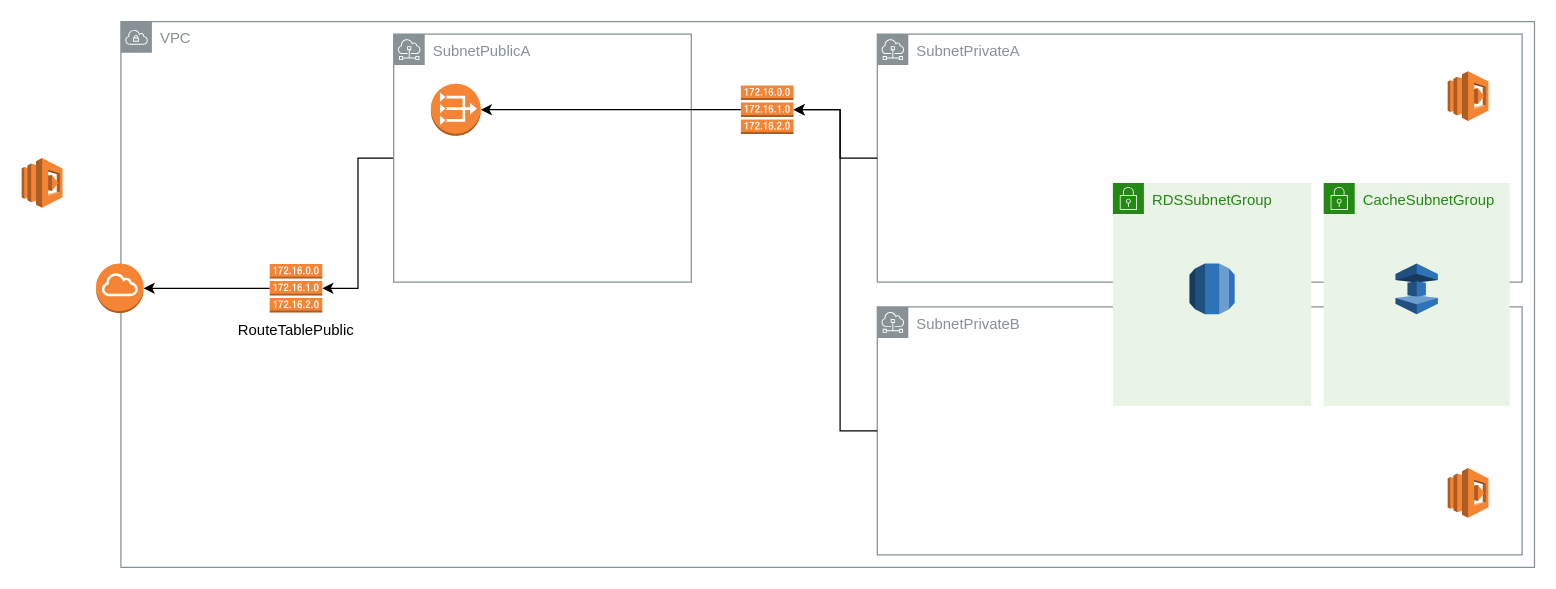
Some shapes in this 1556 by 589 pixel diagram are drawn without their labels. The shapes that lost their labels are listed below. From the top down, each one's centre as x and y in pixels, then its label:
the point at 455,109: NATGateway
the point at 766,109: RouteTablePrivate
the point at 119,287: Internet Gateway
